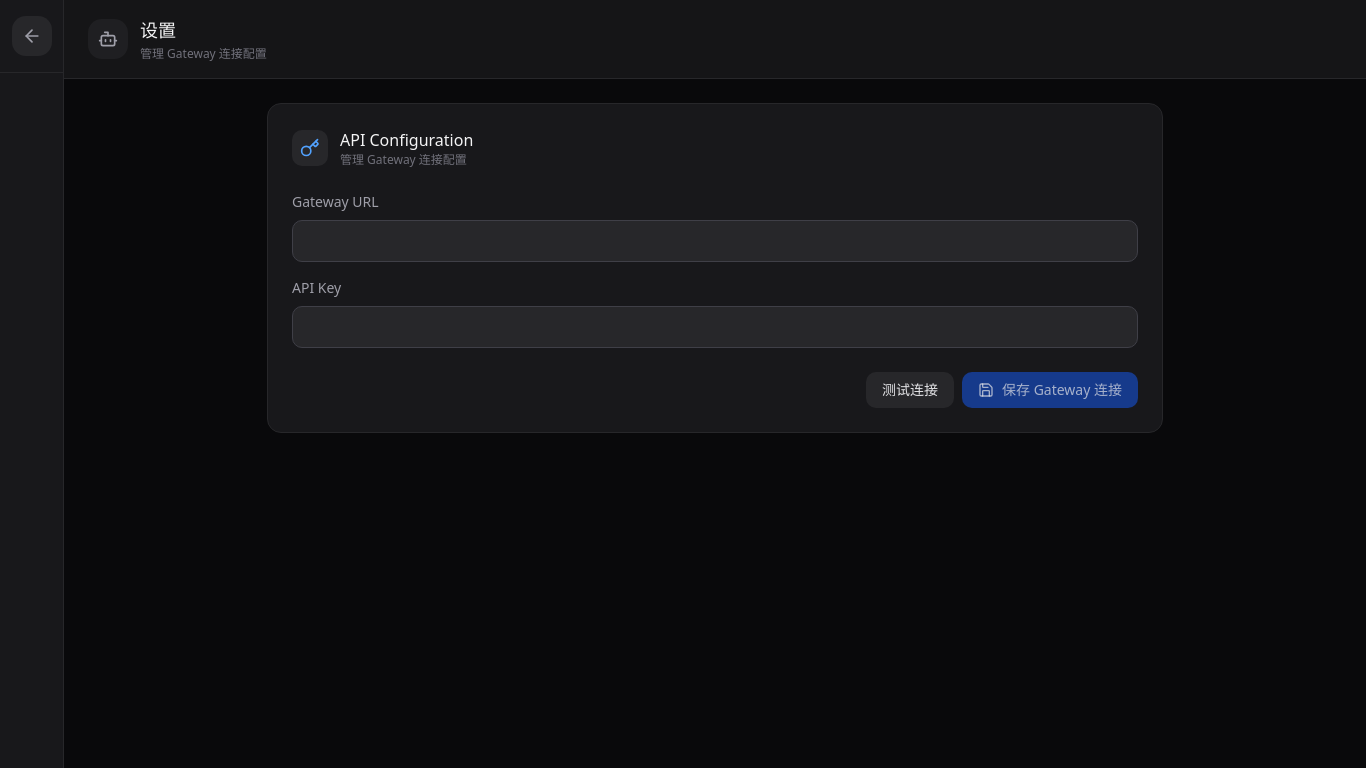
Test: saving gateway connection requires a successful test for current values
Type "http://localhost:3100" into the field labelled "Gateway URL" at (715, 241), box [292,220,1138,262]
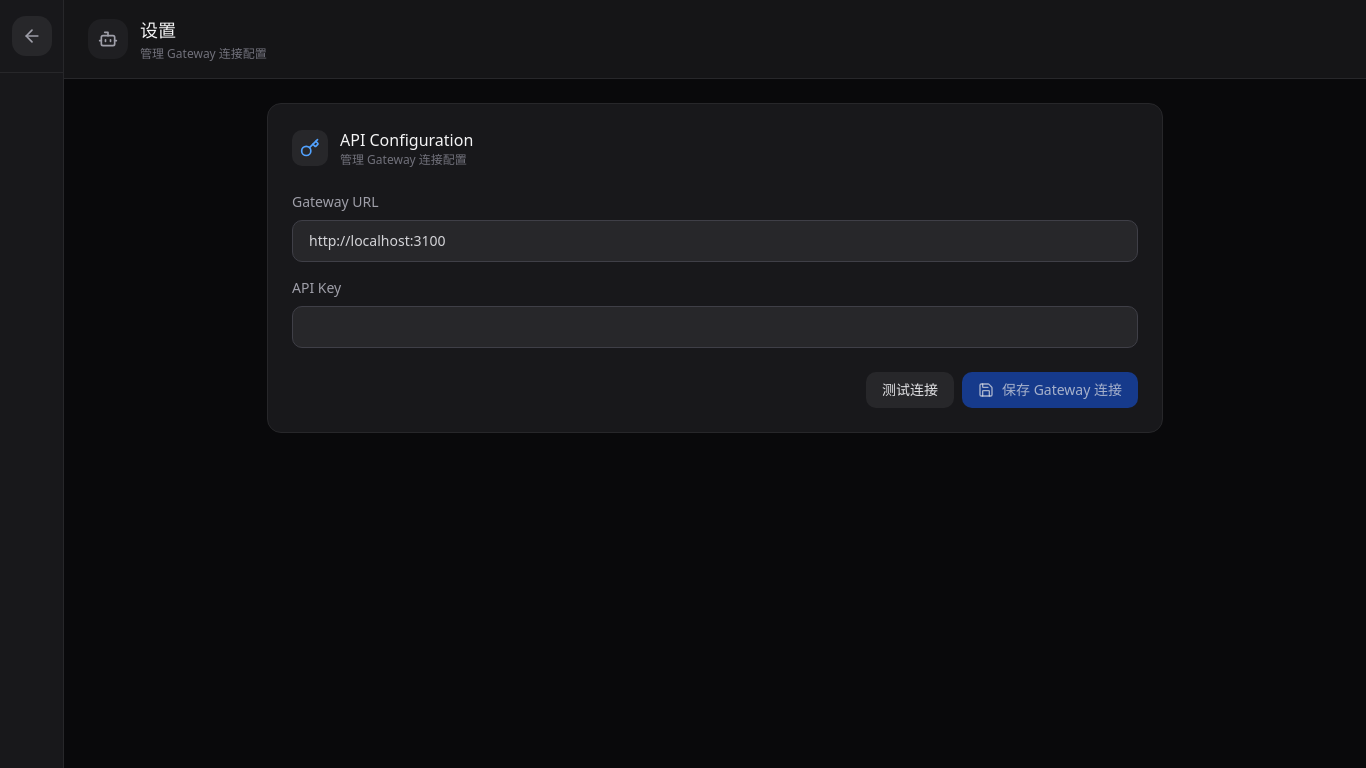
Type "test-key" into the password field named "Gateway API Key" at (715, 327), box [292,306,1138,348]
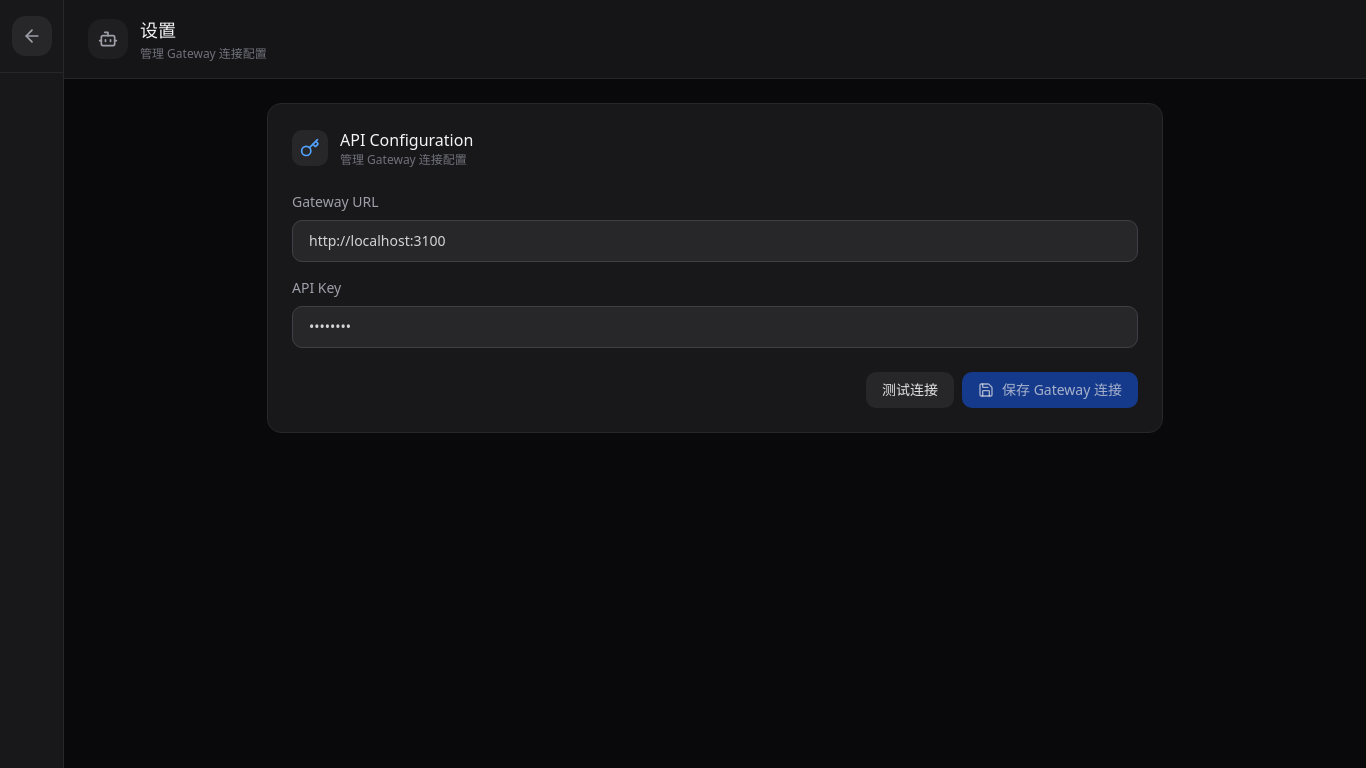
Expected: the button with aria-label "Save Gateway Connection" is disabled, [962,372,1138,408]
Click the button with aria-label "Test Gateway Connection" at (910, 390), box [866,372,954,408]
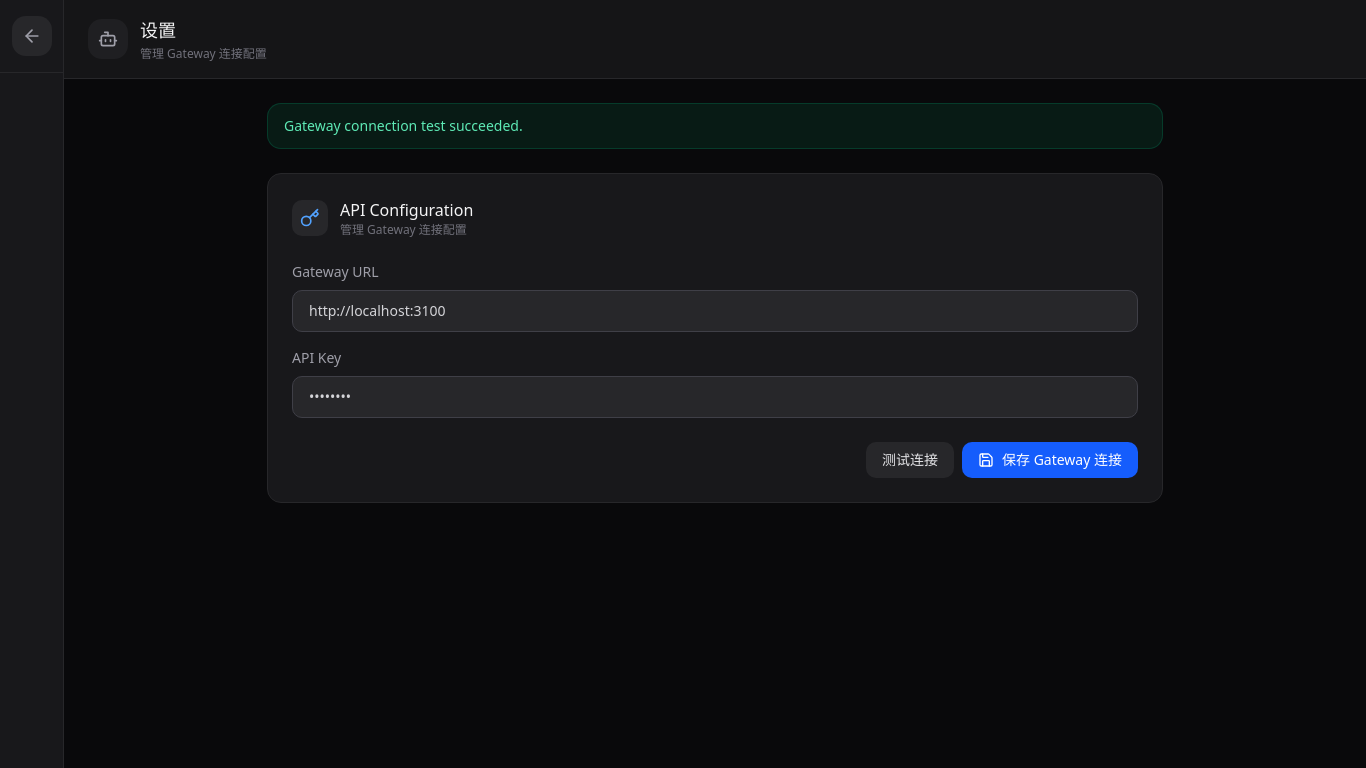
Result: the text "Gateway connection test succeeded." is shown at [267,103,1163,149]
Result: the button with aria-label "Save Gateway Connection" is enabled
Click the button with aria-label "Save Gateway Connection" at (1050, 460), box [962,442,1138,478]
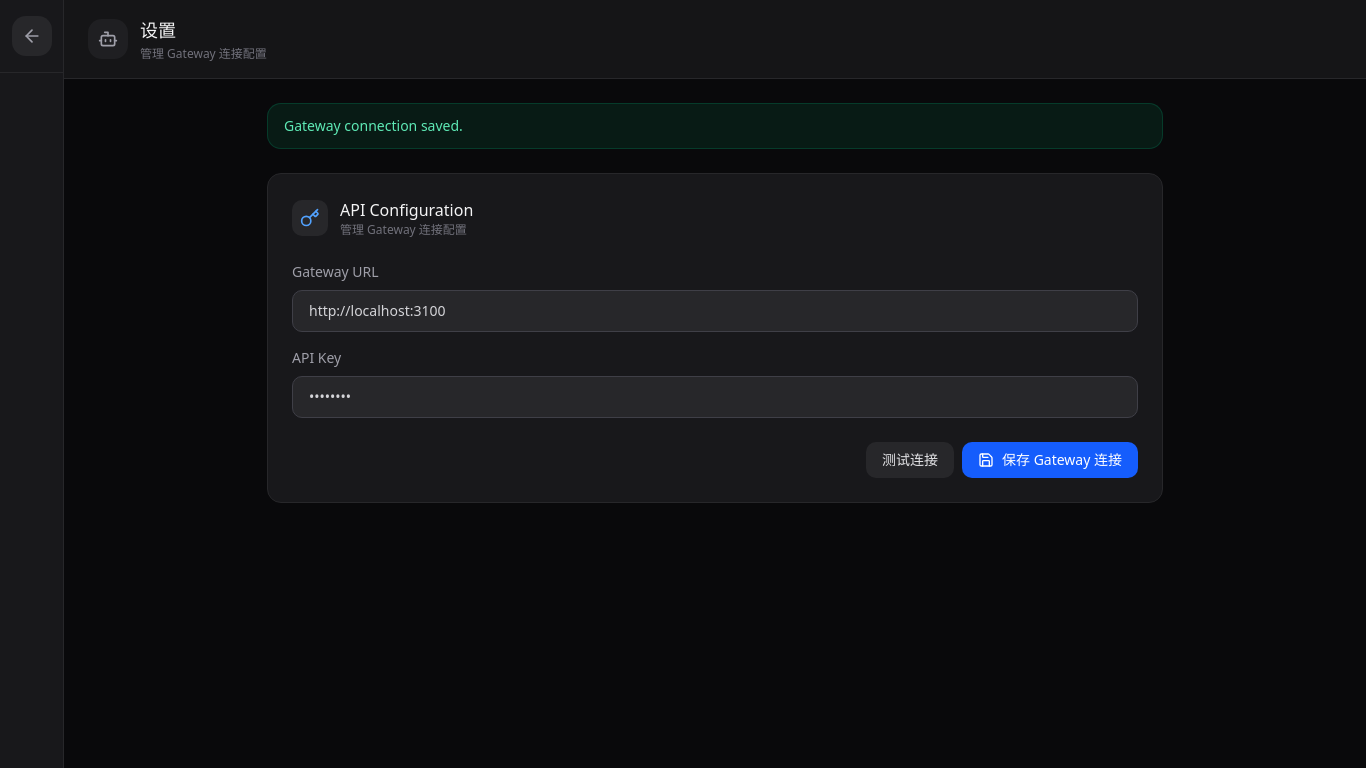
Replace the text in the field labelled "Gateway URL" with "http://localhost:3200" at (715, 311), box [292,290,1138,332]
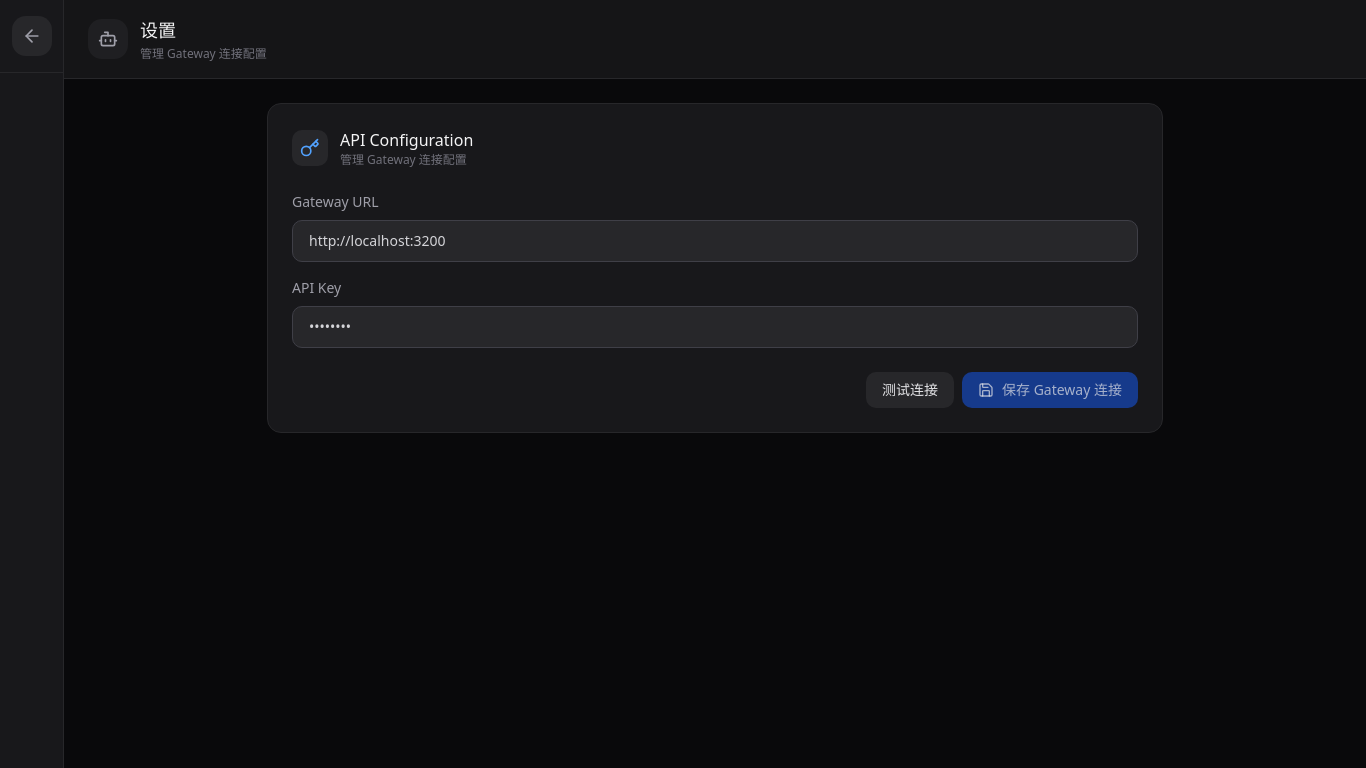
Result: the button with aria-label "Save Gateway Connection" is disabled at [962,372,1138,408]
